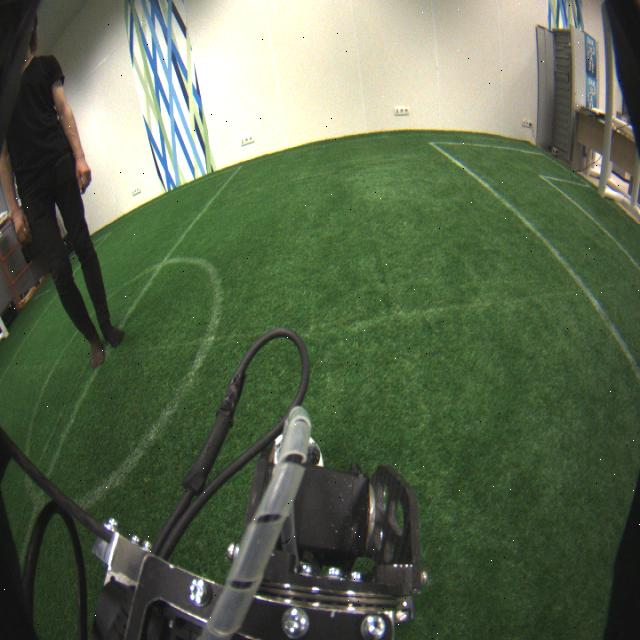ball: (264, 426, 326, 472)
goalpost: (598, 7, 621, 198)
